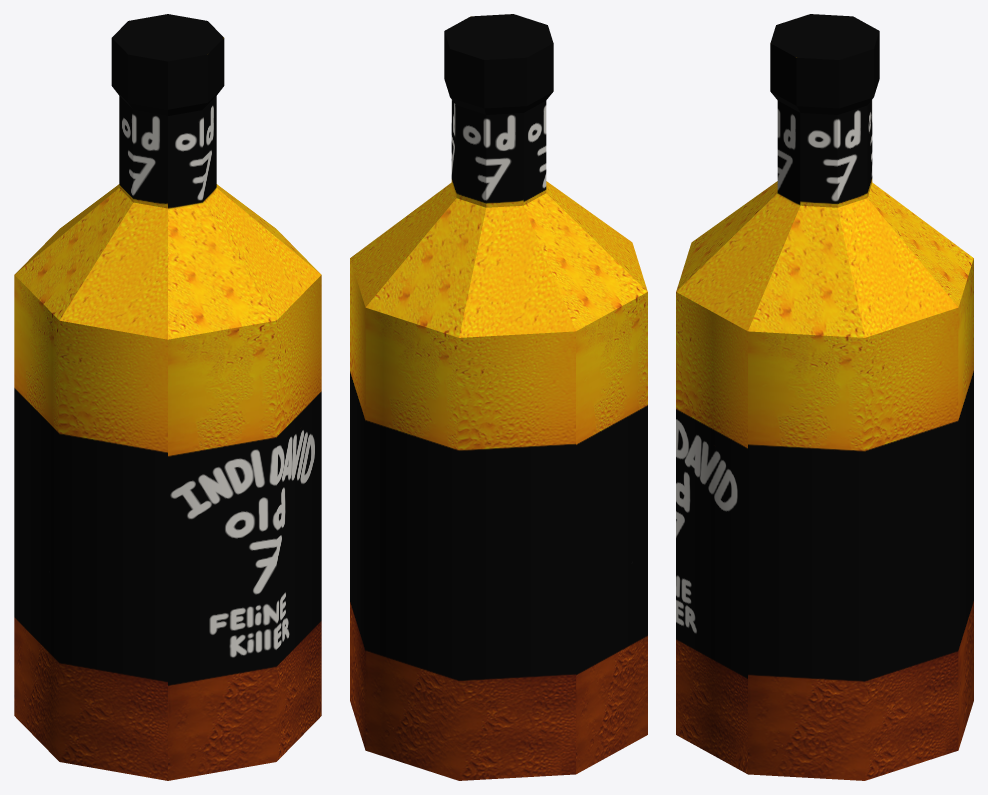
Rendered from whiskey.fbx.
The picture shows the model from 3 angles, left to right: view 1: azimuth 30°, elevation 25°; view 2: azimuth 150°, elevation 25°; view 3: azimuth 270°, elevation 25°; orthographic projection.
Visible parts, largest first — view 1: Cylinder003; view 2: Cylinder003; view 3: Cylinder003.
Part boxes in pixels (<box>): Cylinder003: <box>14,14,321,780</box>; Cylinder003: <box>350,14,647,780</box>; Cylinder003: <box>676,14,973,780</box>.
Size of the model in its own units: 16.94 by 42.75 by 16.94.
